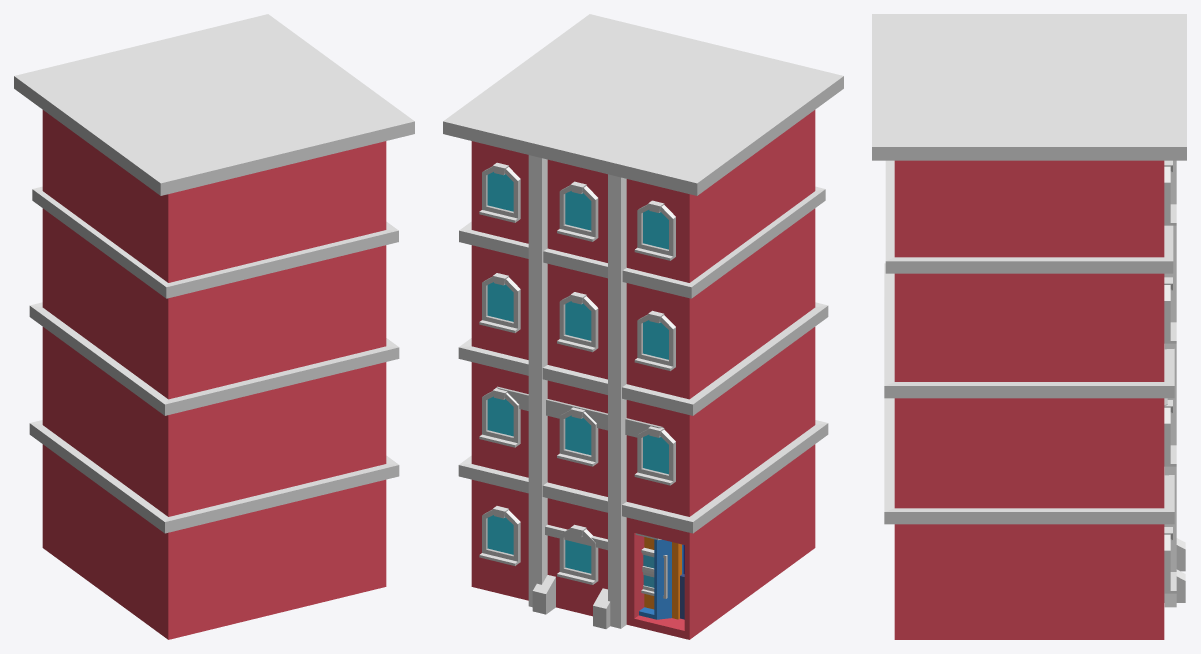
Rendered from Car_Factory_Buildings.fbx.
The picture shows the model from 3 angles, left to right: view 1: azimuth 30°, elevation 25°; view 2: azimuth 150°, elevation 25°; view 3: azimuth 270°, elevation 25°; orthographic projection. The views are drawn at different scales.
Visible parts, largest first — view 1: Building_3; view 2: Building_3, Building_2, Building_1; view 3: Building_3, Building_2.
Part boxes in pixels (x1,y1,x2,y2): Building_3: [14, 14, 414, 639]; Building_3: [443, 14, 843, 639]; Building_2: [532, 524, 681, 628]; Building_1: [497, 386, 683, 619]; Building_3: [872, 14, 1186, 639]; Building_2: [1164, 524, 1185, 602].
Size of the model in its own units: 32.03 by 56.43 by 32.03.
